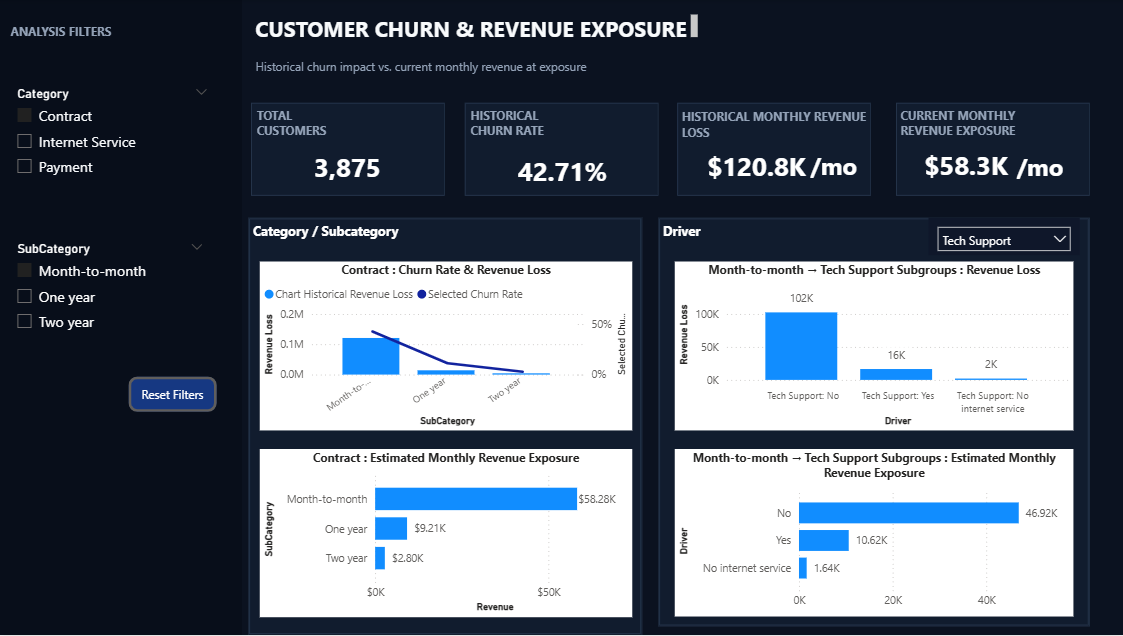

Layout of this report page (visuals, bound fields, positions):
{"tool":"powerbi","page":{"name":"Page 1","canvas":[1280,720],"ordinal":0},"visuals":[{"type":"shape","box":[0,0,278.7,720.2],"z":0},{"type":"textbox","box":[288.8,12.8,510.9,38.5],"z":1000},{"type":"textbox","box":[11.6,23.1,128.4,38.5],"z":2000},{"type":"slicer","fields":{"Values":["Category.Category"]},"box":[11.6,93.7,240,128.4],"z":3000},{"type":"slicer","fields":{"Values":["CategorySubCategory.SubCategory"]},"box":[11.6,268.3,234.9,148.9],"z":4000},{"type":"textbox","box":[288.8,61.6,510.9,32.1],"z":5000},{"type":"shape","box":[288.8,116.8,219.5,105.3],"z":6000},{"type":"shape","box":[530.1,116.8,219.5,105.3],"z":7000},{"type":"shape","box":[771.4,116.8,219.5,105.3],"z":8000},{"type":"shape","box":[1017.9,116.8,219.5,105.3],"z":9000},{"type":"textbox","box":[290.1,116.8,219.5,50.1],"z":10000},{"type":"textbox","box":[531.4,116.8,218.2,50.1],"z":11000},{"type":"textbox","box":[771.4,119.4,219.5,50.1],"z":12000},{"type":"textbox","box":[1017.9,118.1,219.5,53.9],"z":13000},{"type":"shape","box":[285.8,247.6,445.6,472.5],"z":14000},{"type":"shape","box":[749.8,247.6,488.1,462.6],"z":16000},{"type":"clusteredBarChart","fields":{"Category":["CategorySubCategory.SubCategory"],"Y":["Measures (2).Selected Current Monthly Revenue Exposure"]},"box":[298.5,509.3,421.6,190],"z":19000},{"type":"card","fields":{"Values":["Measures (2).Selected Customers"]},"box":[340.2,165.6,116.8,51.3],"z":20000},{"type":"card","fields":{"Values":["Measures (2).Selected Churn Rate Display"]},"box":[581.5,169.4,119.4,51.3],"z":21000},{"type":"card","fields":{"Values":["Measures (2).Selected Historical Revenue Loss Display"]},"box":[771,164.1,179.7,52.3],"z":22000},{"type":"textbox","box":[916.1,165.6,75.3,45.2],"z":23000},{"type":"textbox","box":[1150.7,167.6,75.7,45.9],"z":24000},{"type":"actionButton","box":[150.7,426.6,99.8,39.9],"z":25000},{"type":"card","fields":{"Values":["Measures (2).Current Revenue Exposure Display"]},"box":[1034,163.8,127.9,49.7],"z":26000},{"type":"lineClusteredColumnComboChart","fields":{"Y":["Measures (2).Chart Historical Revenue Loss"],"Y2":["Measures (2).Selected Churn Rate"],"Category":["CategorySubCategory.SubCategory"]},"box":[298.5,297.1,421.6,191],"z":27000},{"type":"lineClusteredColumnComboChart","fields":{"Category":["DriverValues.Driver Label"],"Y":["Measures (2).Driver Historical Revenue Loss"]},"box":[768.2,297.1,451.3,191],"z":28000},{"type":"clusteredBarChart","fields":{"Category":["DriverValues.DriverValue"],"Y":["Measures (2).Driver Current Revenue Exposure"]},"box":[768.2,509.3,451.3,189.6],"z":29000},{"type":"slicer","fields":{"Values":["DriverValues.Driver"]},"box":[1055.4,247.6,171.2,42.4],"z":31000},{"type":"textbox","box":[749.8,247.6,100.4,41],"z":32000},{"type":"textbox","box":[285.8,247.6,185.3,41],"z":33000}]}

Visuals, with their boxes in screenshot pixels (x1, y1, x2, y2), scaled from the page's 1280x720 canvas onto the 1123x636 screenshot:
shape: box=[0, 0, 245, 635]
textbox: box=[253, 11, 702, 45]
textbox: box=[10, 20, 123, 54]
slicer - Category.Category: box=[10, 83, 221, 196]
slicer - CategorySubCategory.SubCategory: box=[10, 237, 216, 369]
textbox: box=[253, 54, 702, 83]
shape: box=[253, 103, 446, 196]
shape: box=[465, 103, 658, 196]
shape: box=[677, 103, 869, 196]
shape: box=[893, 103, 1086, 196]
textbox: box=[255, 103, 447, 147]
textbox: box=[466, 103, 658, 147]
textbox: box=[677, 105, 869, 150]
textbox: box=[893, 104, 1086, 152]
shape: box=[251, 219, 642, 635]
shape: box=[658, 219, 1086, 627]
clusteredBarChart - CategorySubCategory.SubCategory x Measures (2).Selected Current Monthly Revenue Exposure: box=[262, 450, 632, 618]
card - Measures (2).Selected Customers: box=[298, 146, 401, 192]
card - Measures (2).Selected Churn Rate Display: box=[510, 150, 615, 195]
card - Measures (2).Selected Historical Revenue Loss Display: box=[676, 145, 834, 191]
textbox: box=[804, 146, 870, 186]
textbox: box=[1010, 148, 1076, 189]
actionButton: box=[132, 377, 220, 412]
card - Measures (2).Current Revenue Exposure Display: box=[907, 145, 1019, 189]
lineClusteredColumnComboChart - Measures (2).Chart Historical Revenue Loss x Measures (2).Selected Churn Rate: box=[262, 262, 632, 431]
lineClusteredColumnComboChart - DriverValues.Driver Label x Measures (2).Driver Historical Revenue Loss: box=[674, 262, 1070, 431]
clusteredBarChart - DriverValues.DriverValue x Measures (2).Driver Current Revenue Exposure: box=[674, 450, 1070, 617]
slicer - DriverValues.Driver: box=[926, 219, 1076, 256]
textbox: box=[658, 219, 746, 255]
textbox: box=[251, 219, 413, 255]
